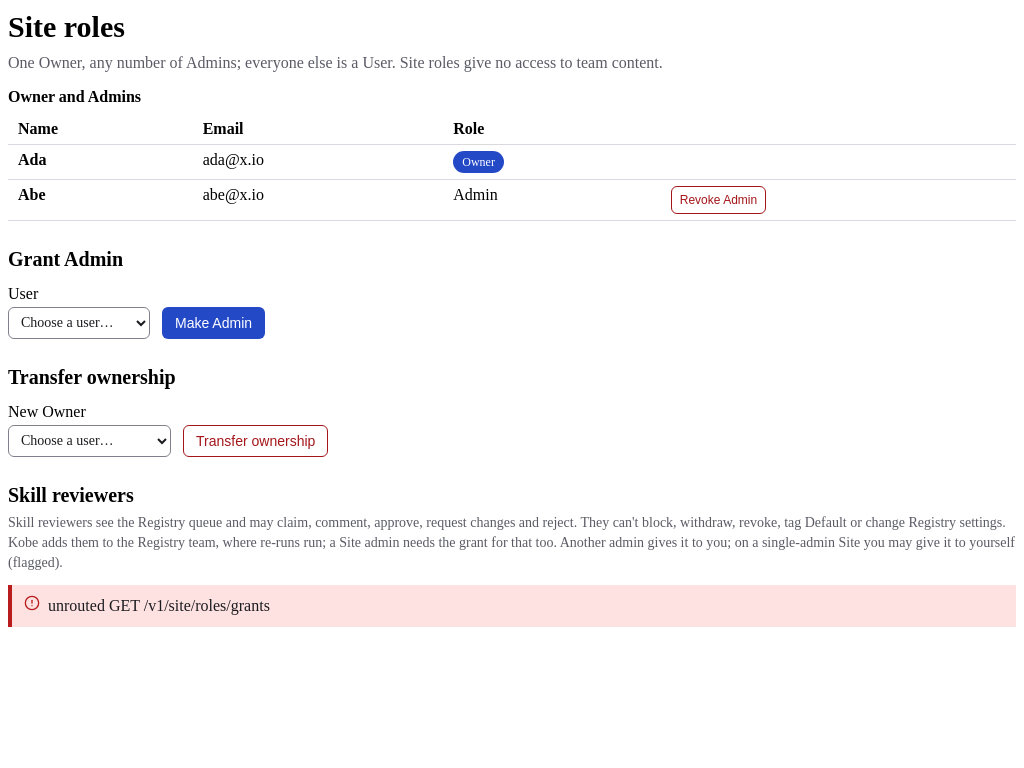
Test case: Site roles › lets the Owner grant and revoke Admin
Click the button named "Revoke Admin from Abe".
click(718, 200)  # box left=671, top=186, right=766, bottom=214
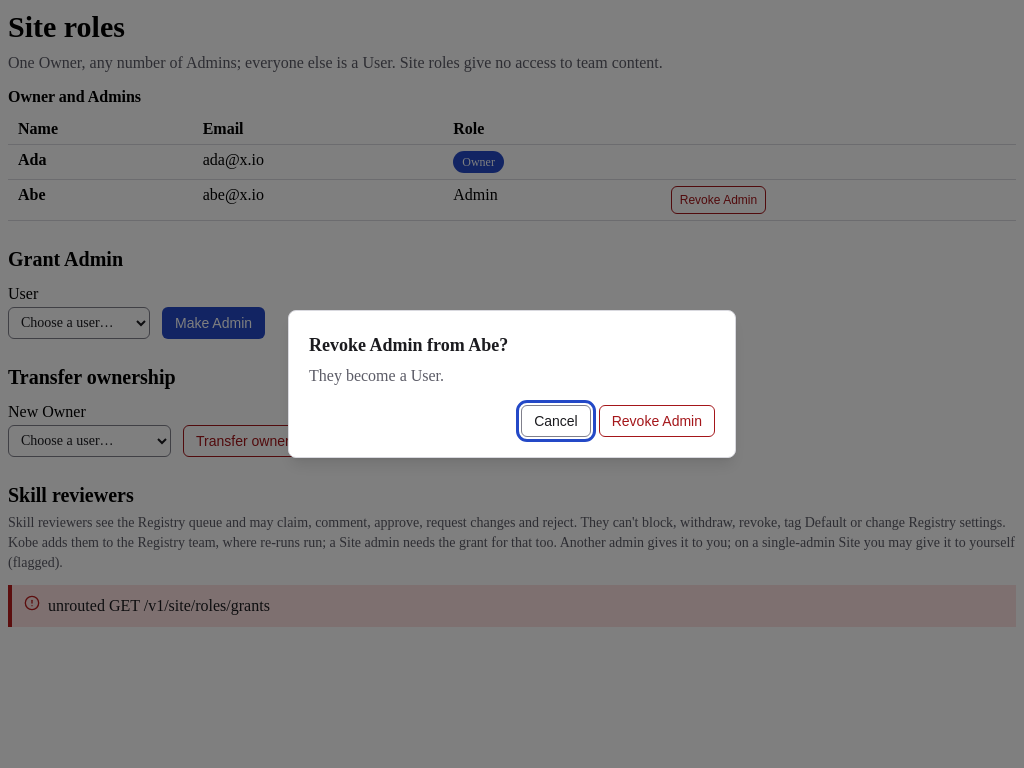
Click the button "Cancel".
click(556, 421)  # box left=521, top=405, right=591, bottom=437
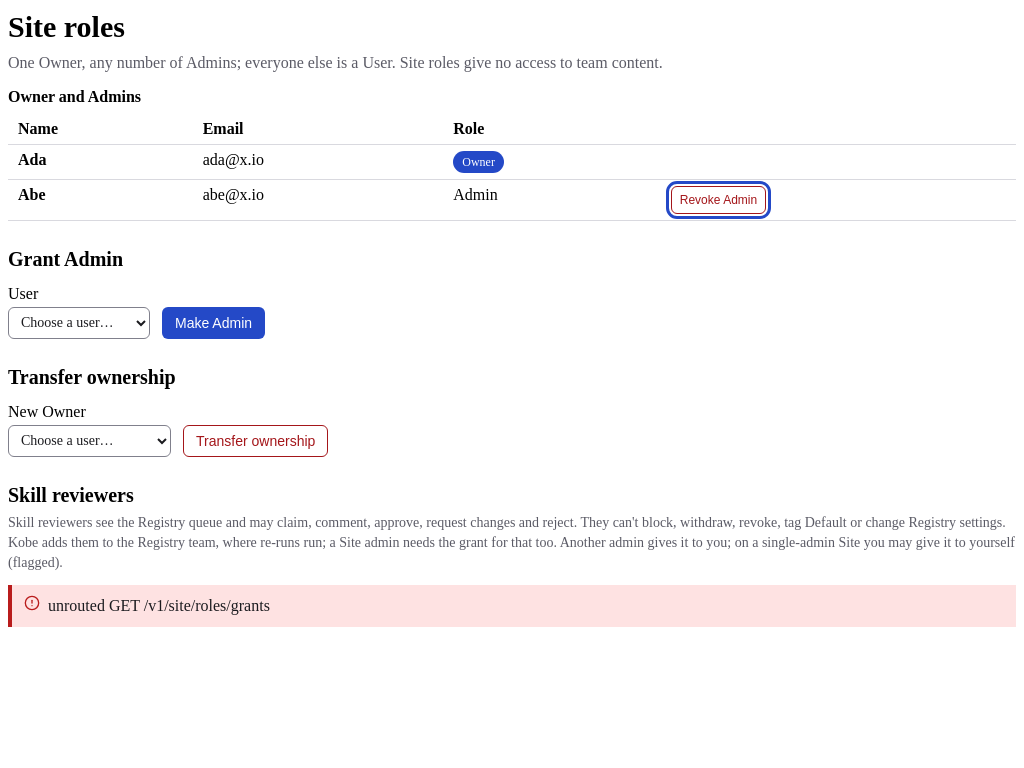
Click the button named "Revoke Admin from Abe".
click(718, 200)  # box left=671, top=186, right=766, bottom=214
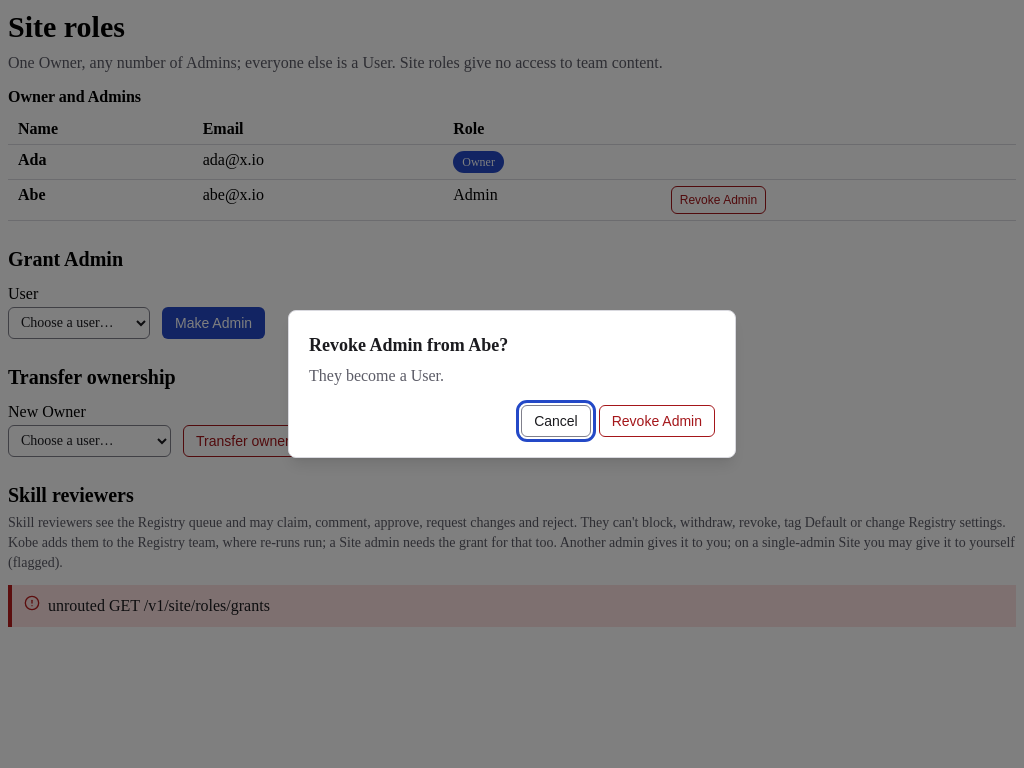
Click the button "Revoke Admin".
click(657, 421)  # box left=599, top=405, right=715, bottom=437
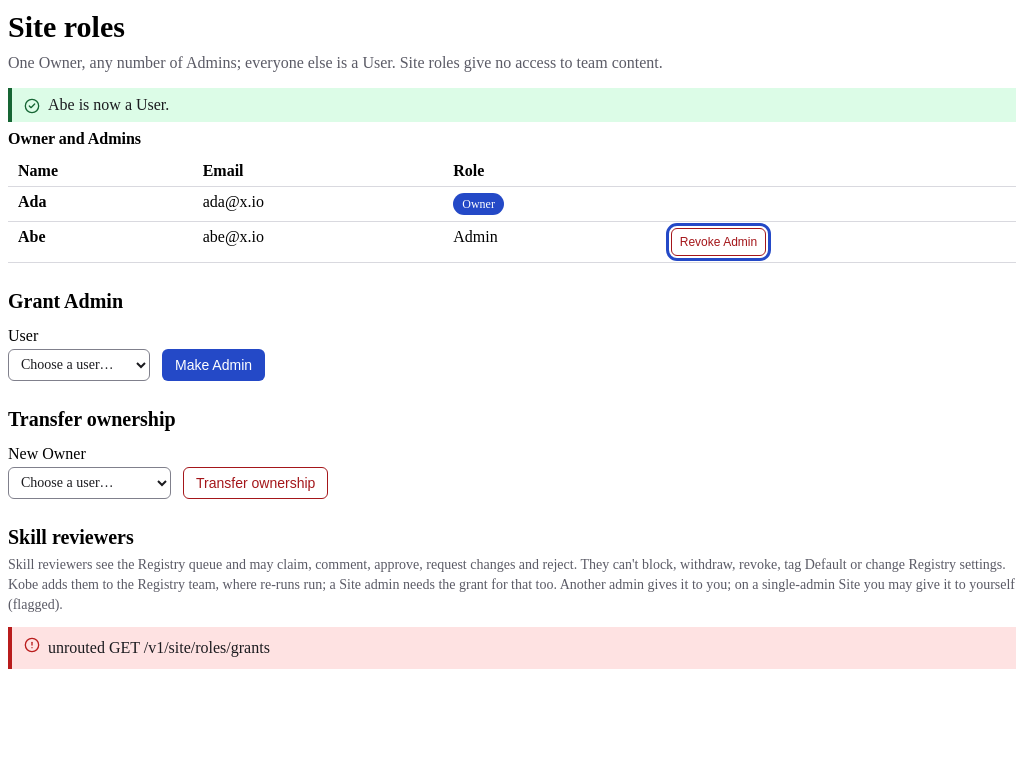
Result: the text "Abe is now a User." is shown at left=48, top=96, right=169, bottom=112
Select "Bob (u-bob@x.io)" in the dropdown labelled "User" at (79, 364), box left=8, top=348, right=150, bottom=380
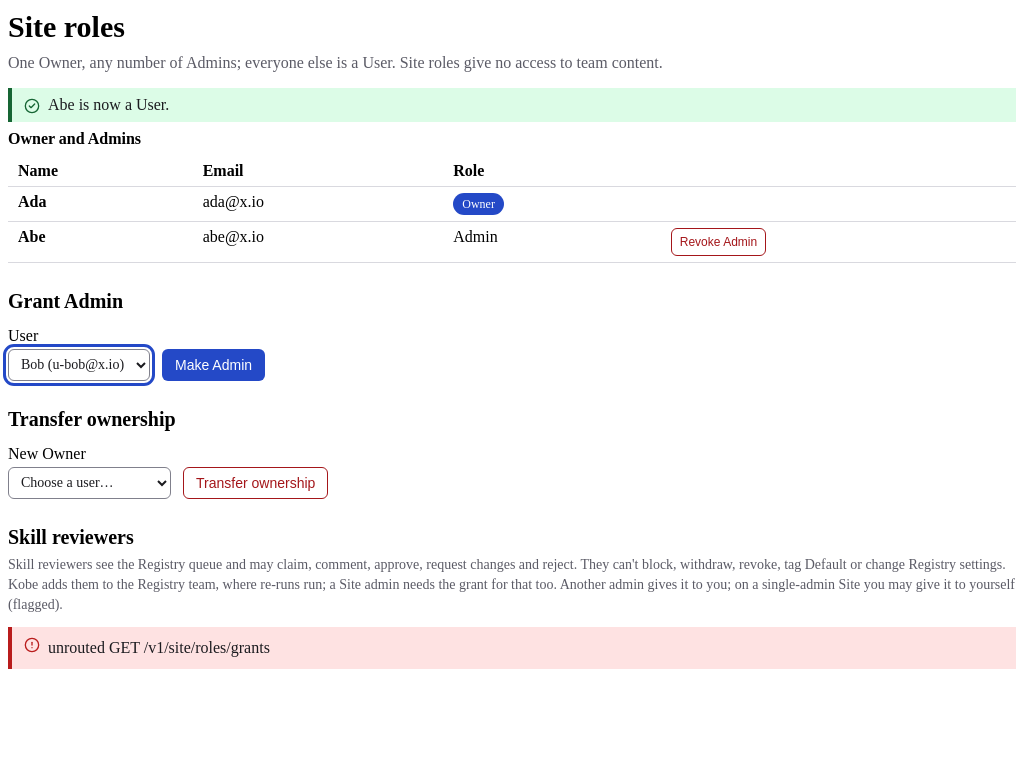
Click the button "Make Admin".
click(214, 364)  # box left=162, top=348, right=265, bottom=380
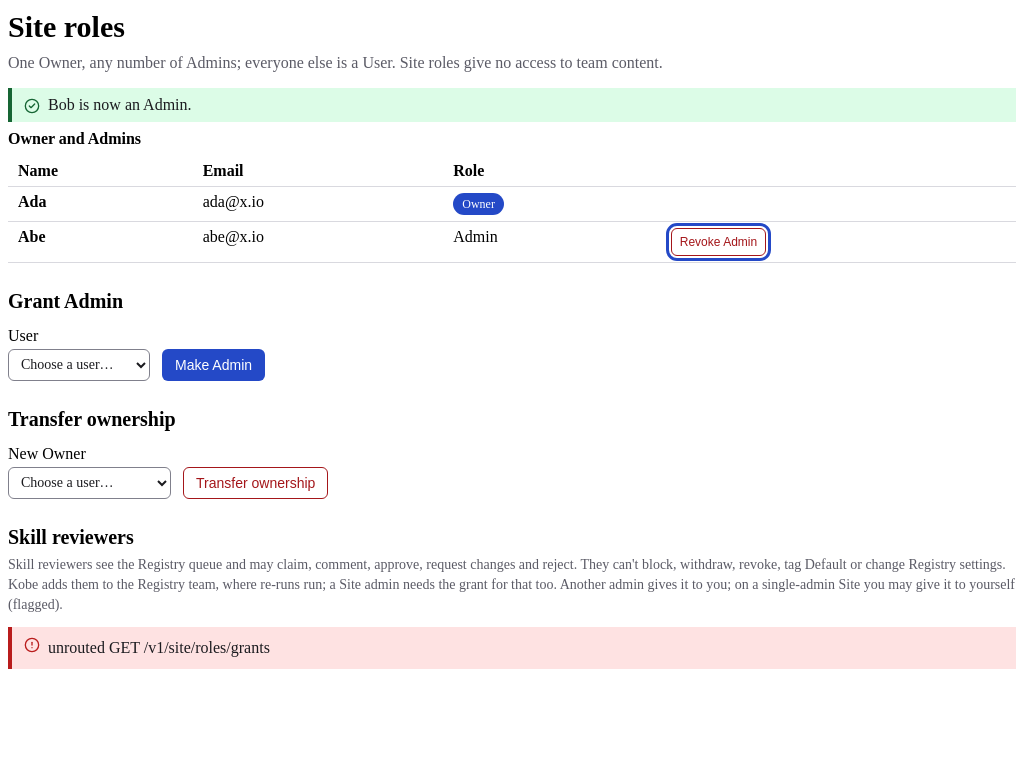
Result: the text "Bob is now an Admin." is shown at left=48, top=96, right=192, bottom=112
